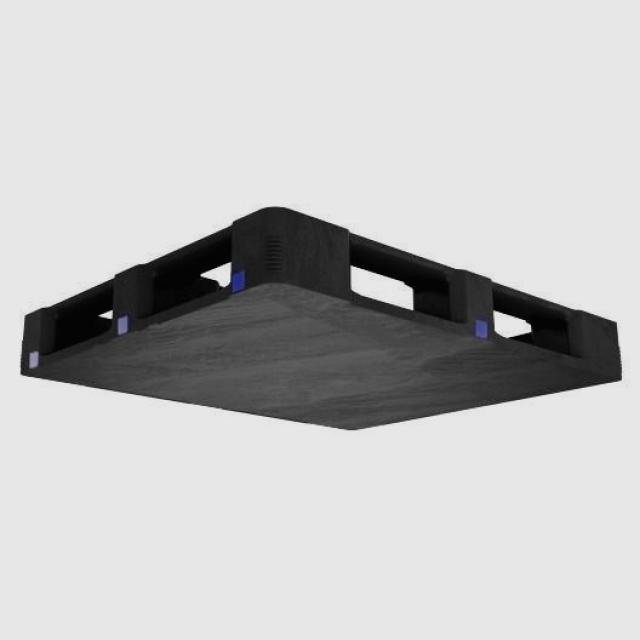non-igps: (13, 201, 631, 436)
